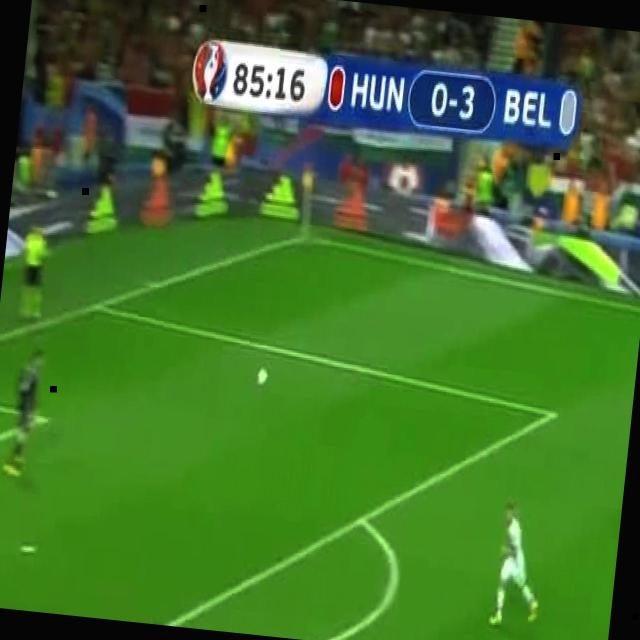ball: (256, 366, 268, 387)
player-white: (488, 505, 550, 631), (1, 342, 46, 479), (16, 220, 49, 324)
